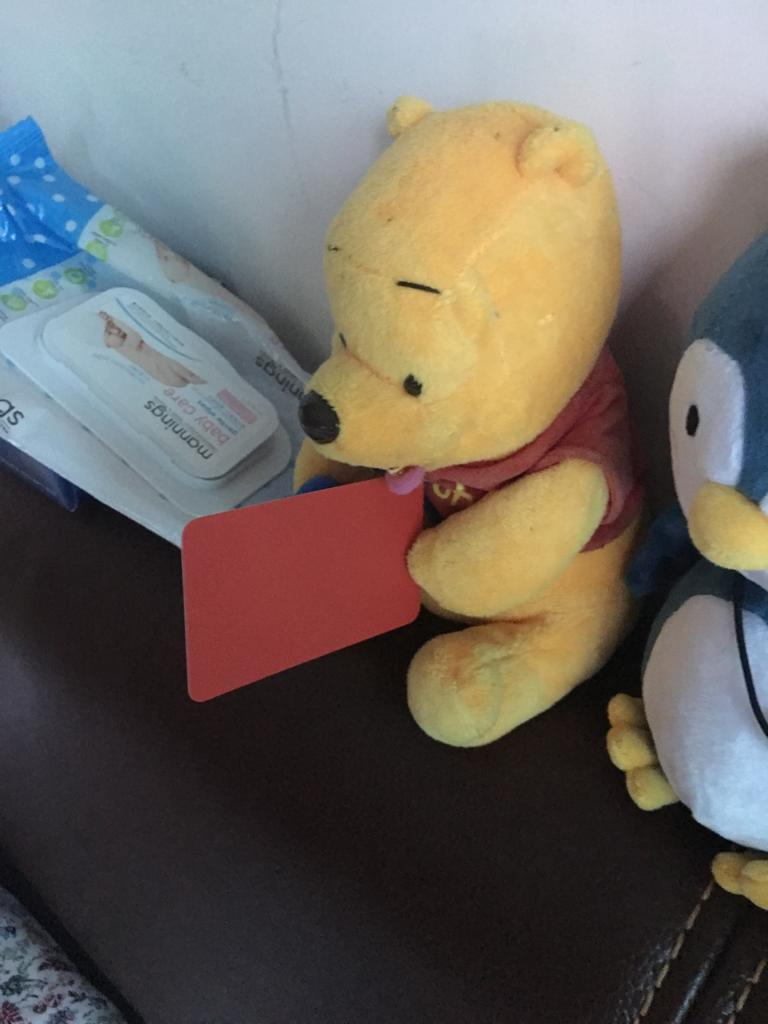red: (127, 451, 443, 709)
